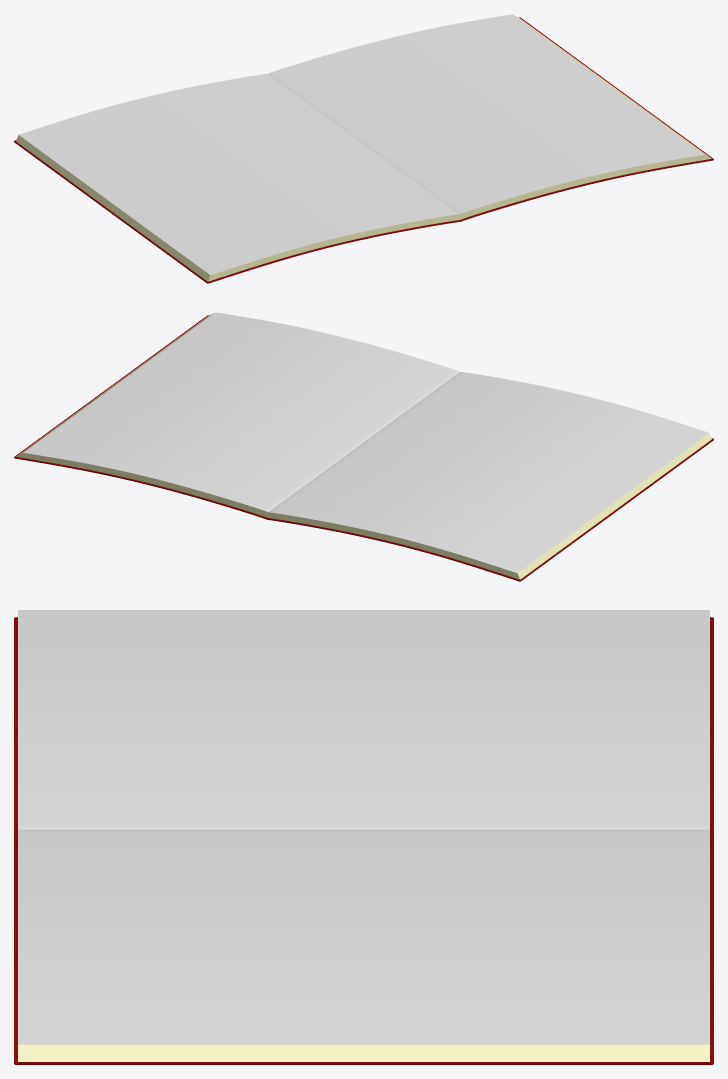
The model's file is MagazineV3Open.fbx.
The picture shows the model from 3 angles, top to bottom: view 1: azimuth 30°, elevation 25°; view 2: azimuth 150°, elevation 25°; view 3: azimuth 270°, elevation 25°; orthographic projection. The views are drawn at different scales.
Visible parts, largest first — view 1: Top, Sides, Bottom; view 2: Top, Sides, Bottom; view 3: Top, Sides, Bottom.
Boxes of the visible parts, x1,y1,x2,y2 form: Top: (19, 14, 703, 275); Sides: (16, 15, 711, 281); Bottom: (14, 17, 713, 283); Top: (24, 312, 708, 573); Sides: (16, 313, 711, 579); Bottom: (14, 315, 713, 581); Top: (18, 610, 709, 1044); Sides: (18, 1044, 709, 1061); Bottom: (14, 617, 713, 1064).
Size of the model in its own units: 547 by 13.9 by 363.
